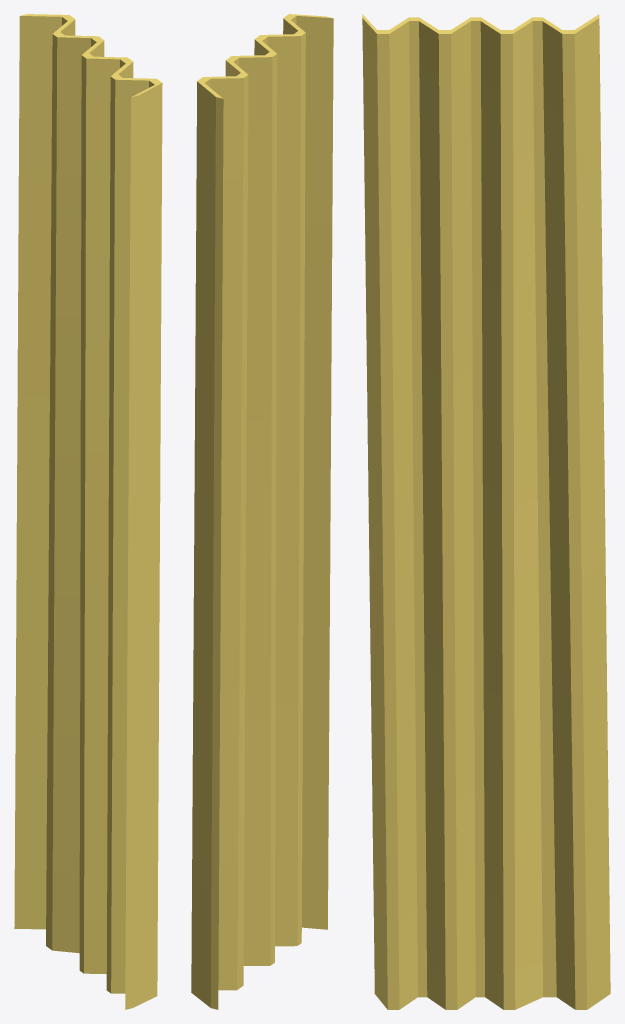
Rendered from Livingroom2_Curtain.fbx.
3 views of the same model, side by side, from view 1: azimuth 30°, elevation 25°; view 2: azimuth 150°, elevation 25°; view 3: azimuth 270°, elevation 25° (orthographic). The views are drawn at different scales.
Visible parts, largest first — view 1: Livingroom2_Curtain; view 2: Livingroom2_Curtain; view 3: Livingroom2_Curtain.
Boxes of the visible parts, x1,y1,x2,y2 form: Livingroom2_Curtain: (14,14,162,1009); Livingroom2_Curtain: (191,14,333,1009); Livingroom2_Curtain: (362,14,610,1009).
Bounding box in the file's own units: 16.35 × 374 × 86.15.
